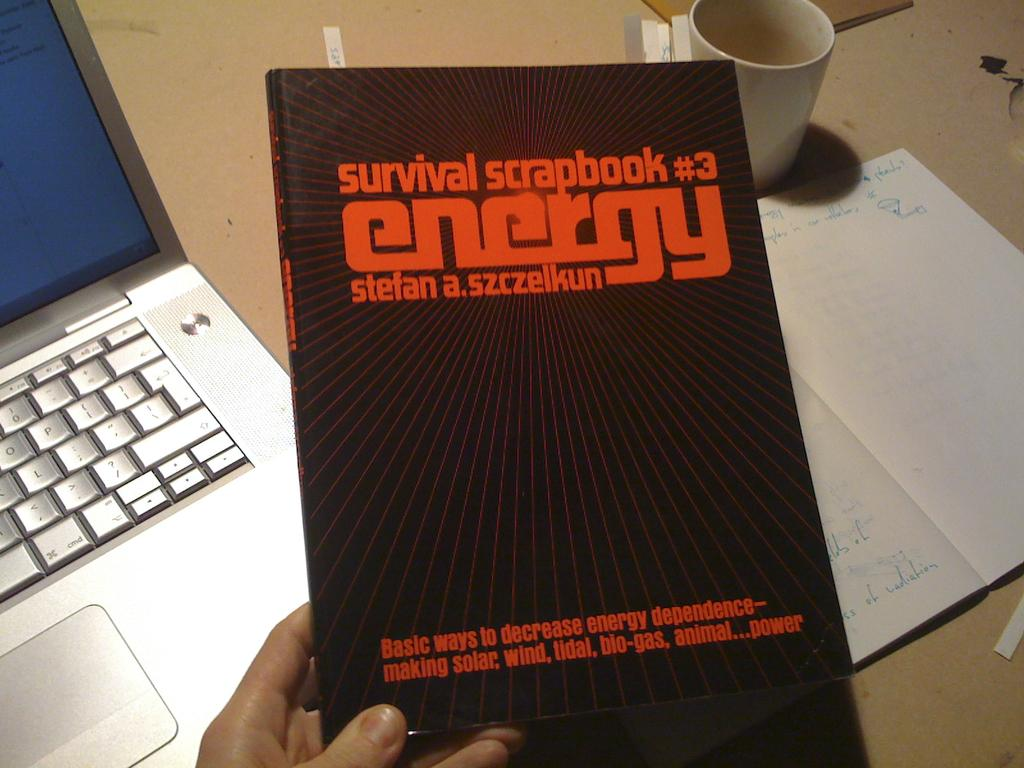Computer-keyboard: (0, 311, 249, 614)
